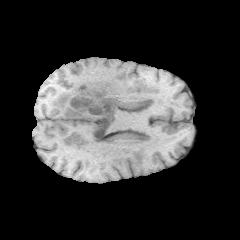glioma: (49, 67, 180, 170)
